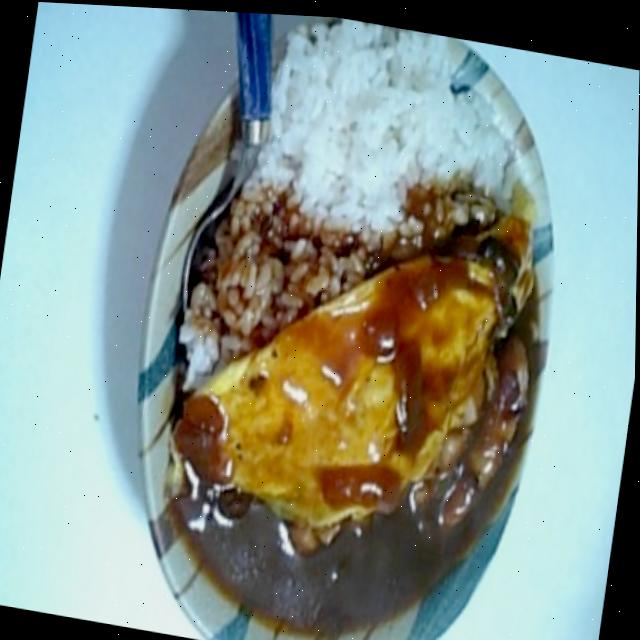牛肉菜式: (132, 6, 597, 640)
